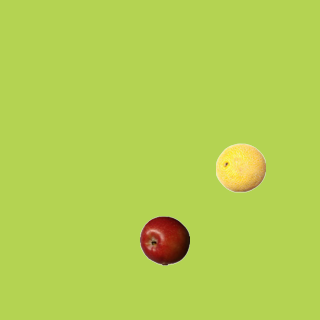Apple Braeburn: (139, 215, 189, 265)
Cantaloupe 1: (215, 142, 265, 192)
